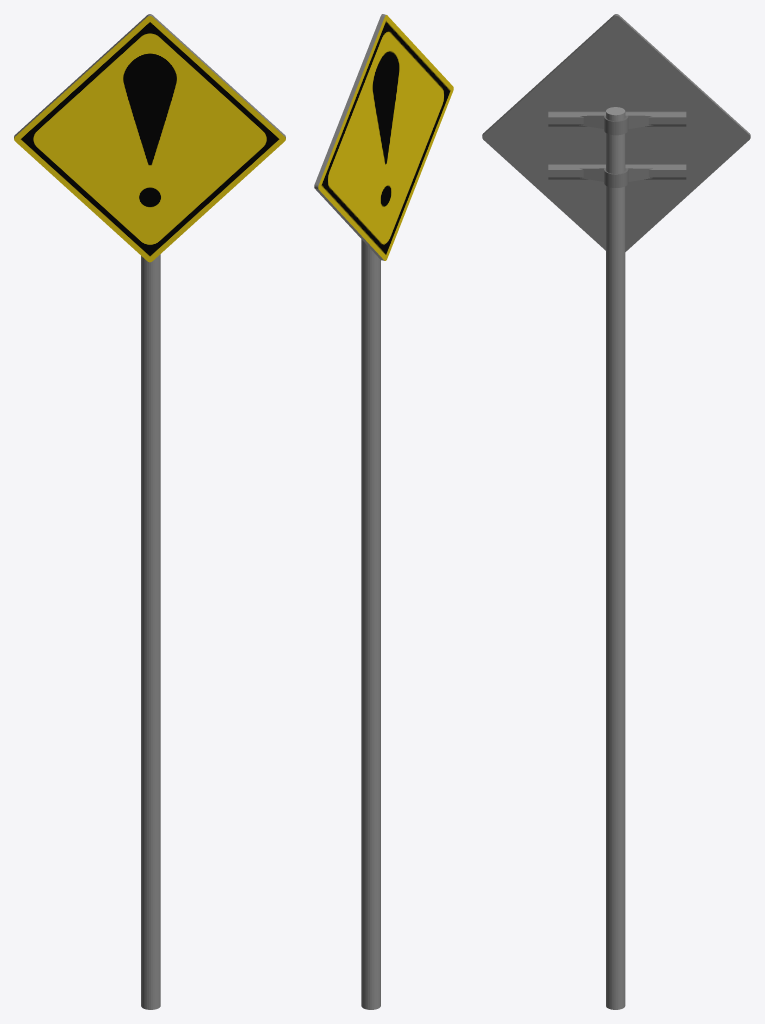
3 renders of one model, left to right at view 1: azimuth 90°, elevation 25°; view 2: azimuth 150°, elevation 25°; view 3: azimuth 270°, elevation 25°, orthographic.
Visible parts, largest first — view 1: 005, Prop; view 2: 005, Prop; view 3: 005, Prop.
Boxes of the visible parts, x1=… form: 005: x1=14, y1=14, x2=285, y2=262; Prop: x1=141, y1=254, x2=160, y2=1009; 005: x1=314, y1=14, x2=453, y2=260; Prop: x1=361, y1=239, x2=380, y2=1009; 005: x1=482, y1=14, x2=750, y2=251; Prop: x1=548, y1=107, x2=686, y2=1009.
Bounding box in the file's own units: 6.76 × 259 × 63.95.
